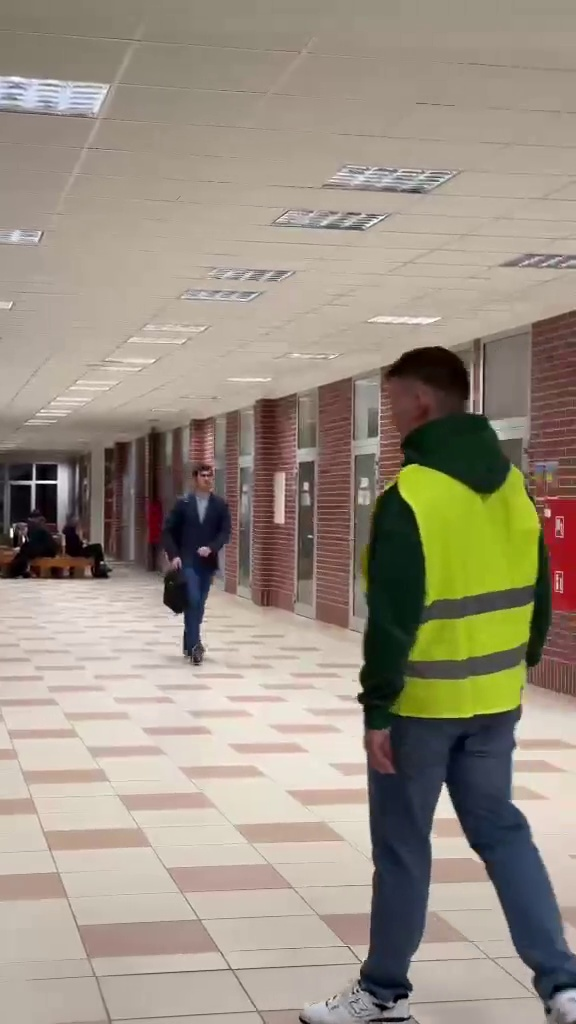no vest: (159, 461, 232, 655)
vest: (331, 338, 576, 1021)
